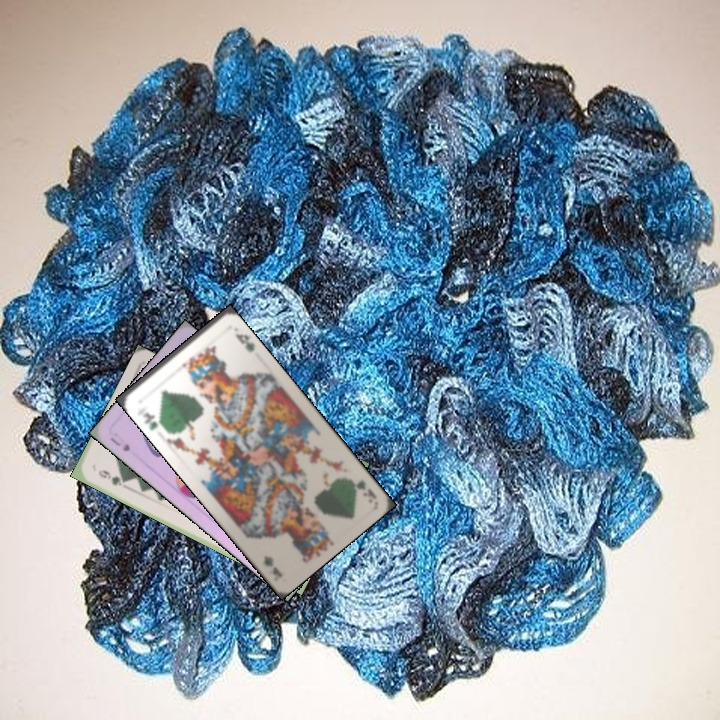G9: (94, 466, 129, 488)
GK: (342, 473, 379, 500), (139, 408, 167, 433)
SU: (106, 430, 133, 454)
